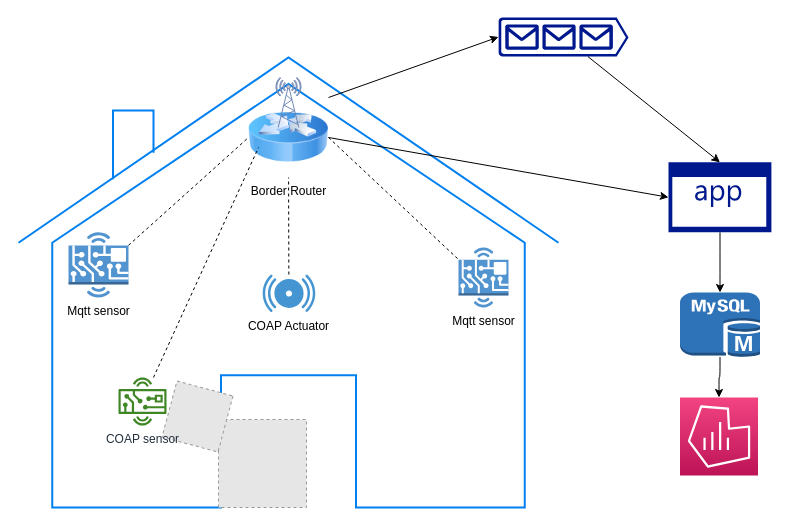
Some shapes in this 788 by 525 pixel diagram are drawn without their labels. Grey dashed boxes stand in for pictures. The box of each missing label's shape, as (x1, y1, x2, y2) in pixels:
Grafana: (679, 396, 758, 476)
Message broker Mqtt: (498, 17, 628, 56)
mqtt + coap: (668, 162, 771, 232)
